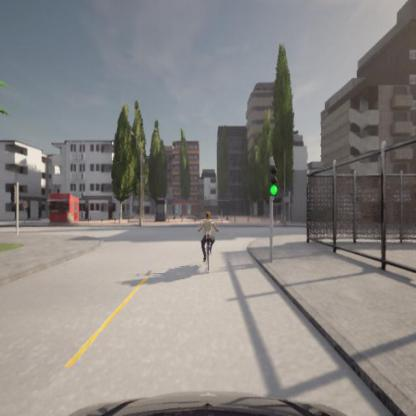bike: (195, 211, 220, 273)
traffic_light_green: (268, 163, 278, 197)
